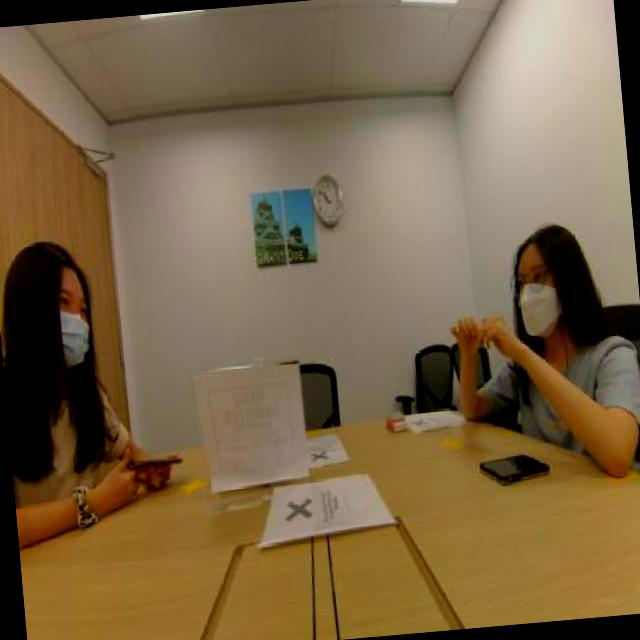Person: (0, 205, 163, 520), (434, 199, 632, 458)
